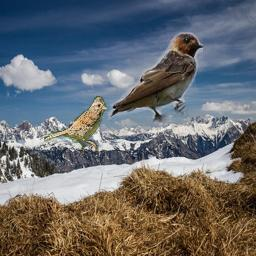Sparrow: (44, 96, 107, 155)
Swallow: (107, 31, 203, 122)
